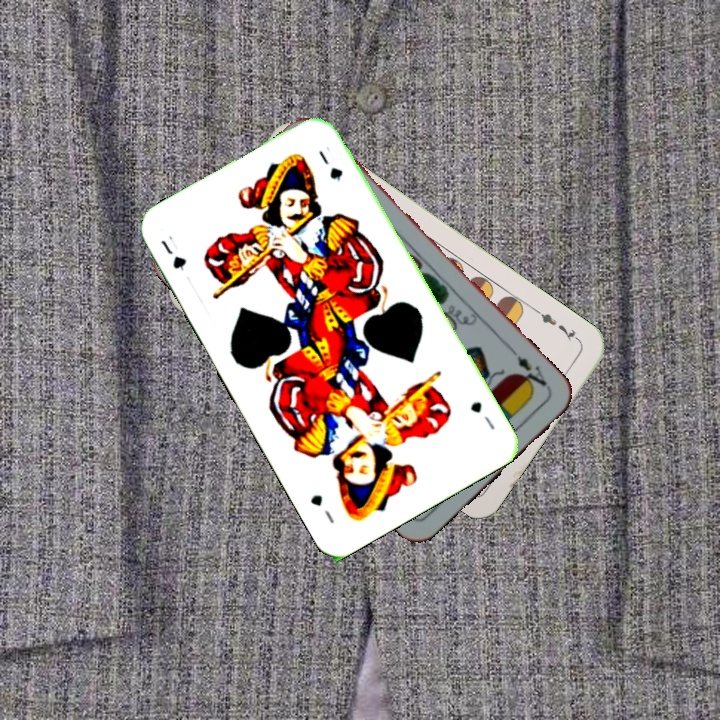E7: (532, 305, 583, 345)
EA: (512, 351, 551, 394)
GU: (156, 236, 189, 273), (466, 397, 498, 433)
